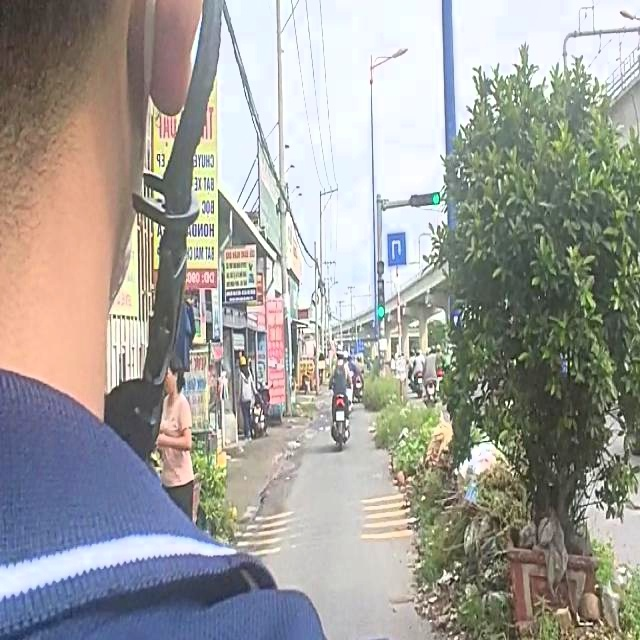I.409: (387, 229, 407, 271)
